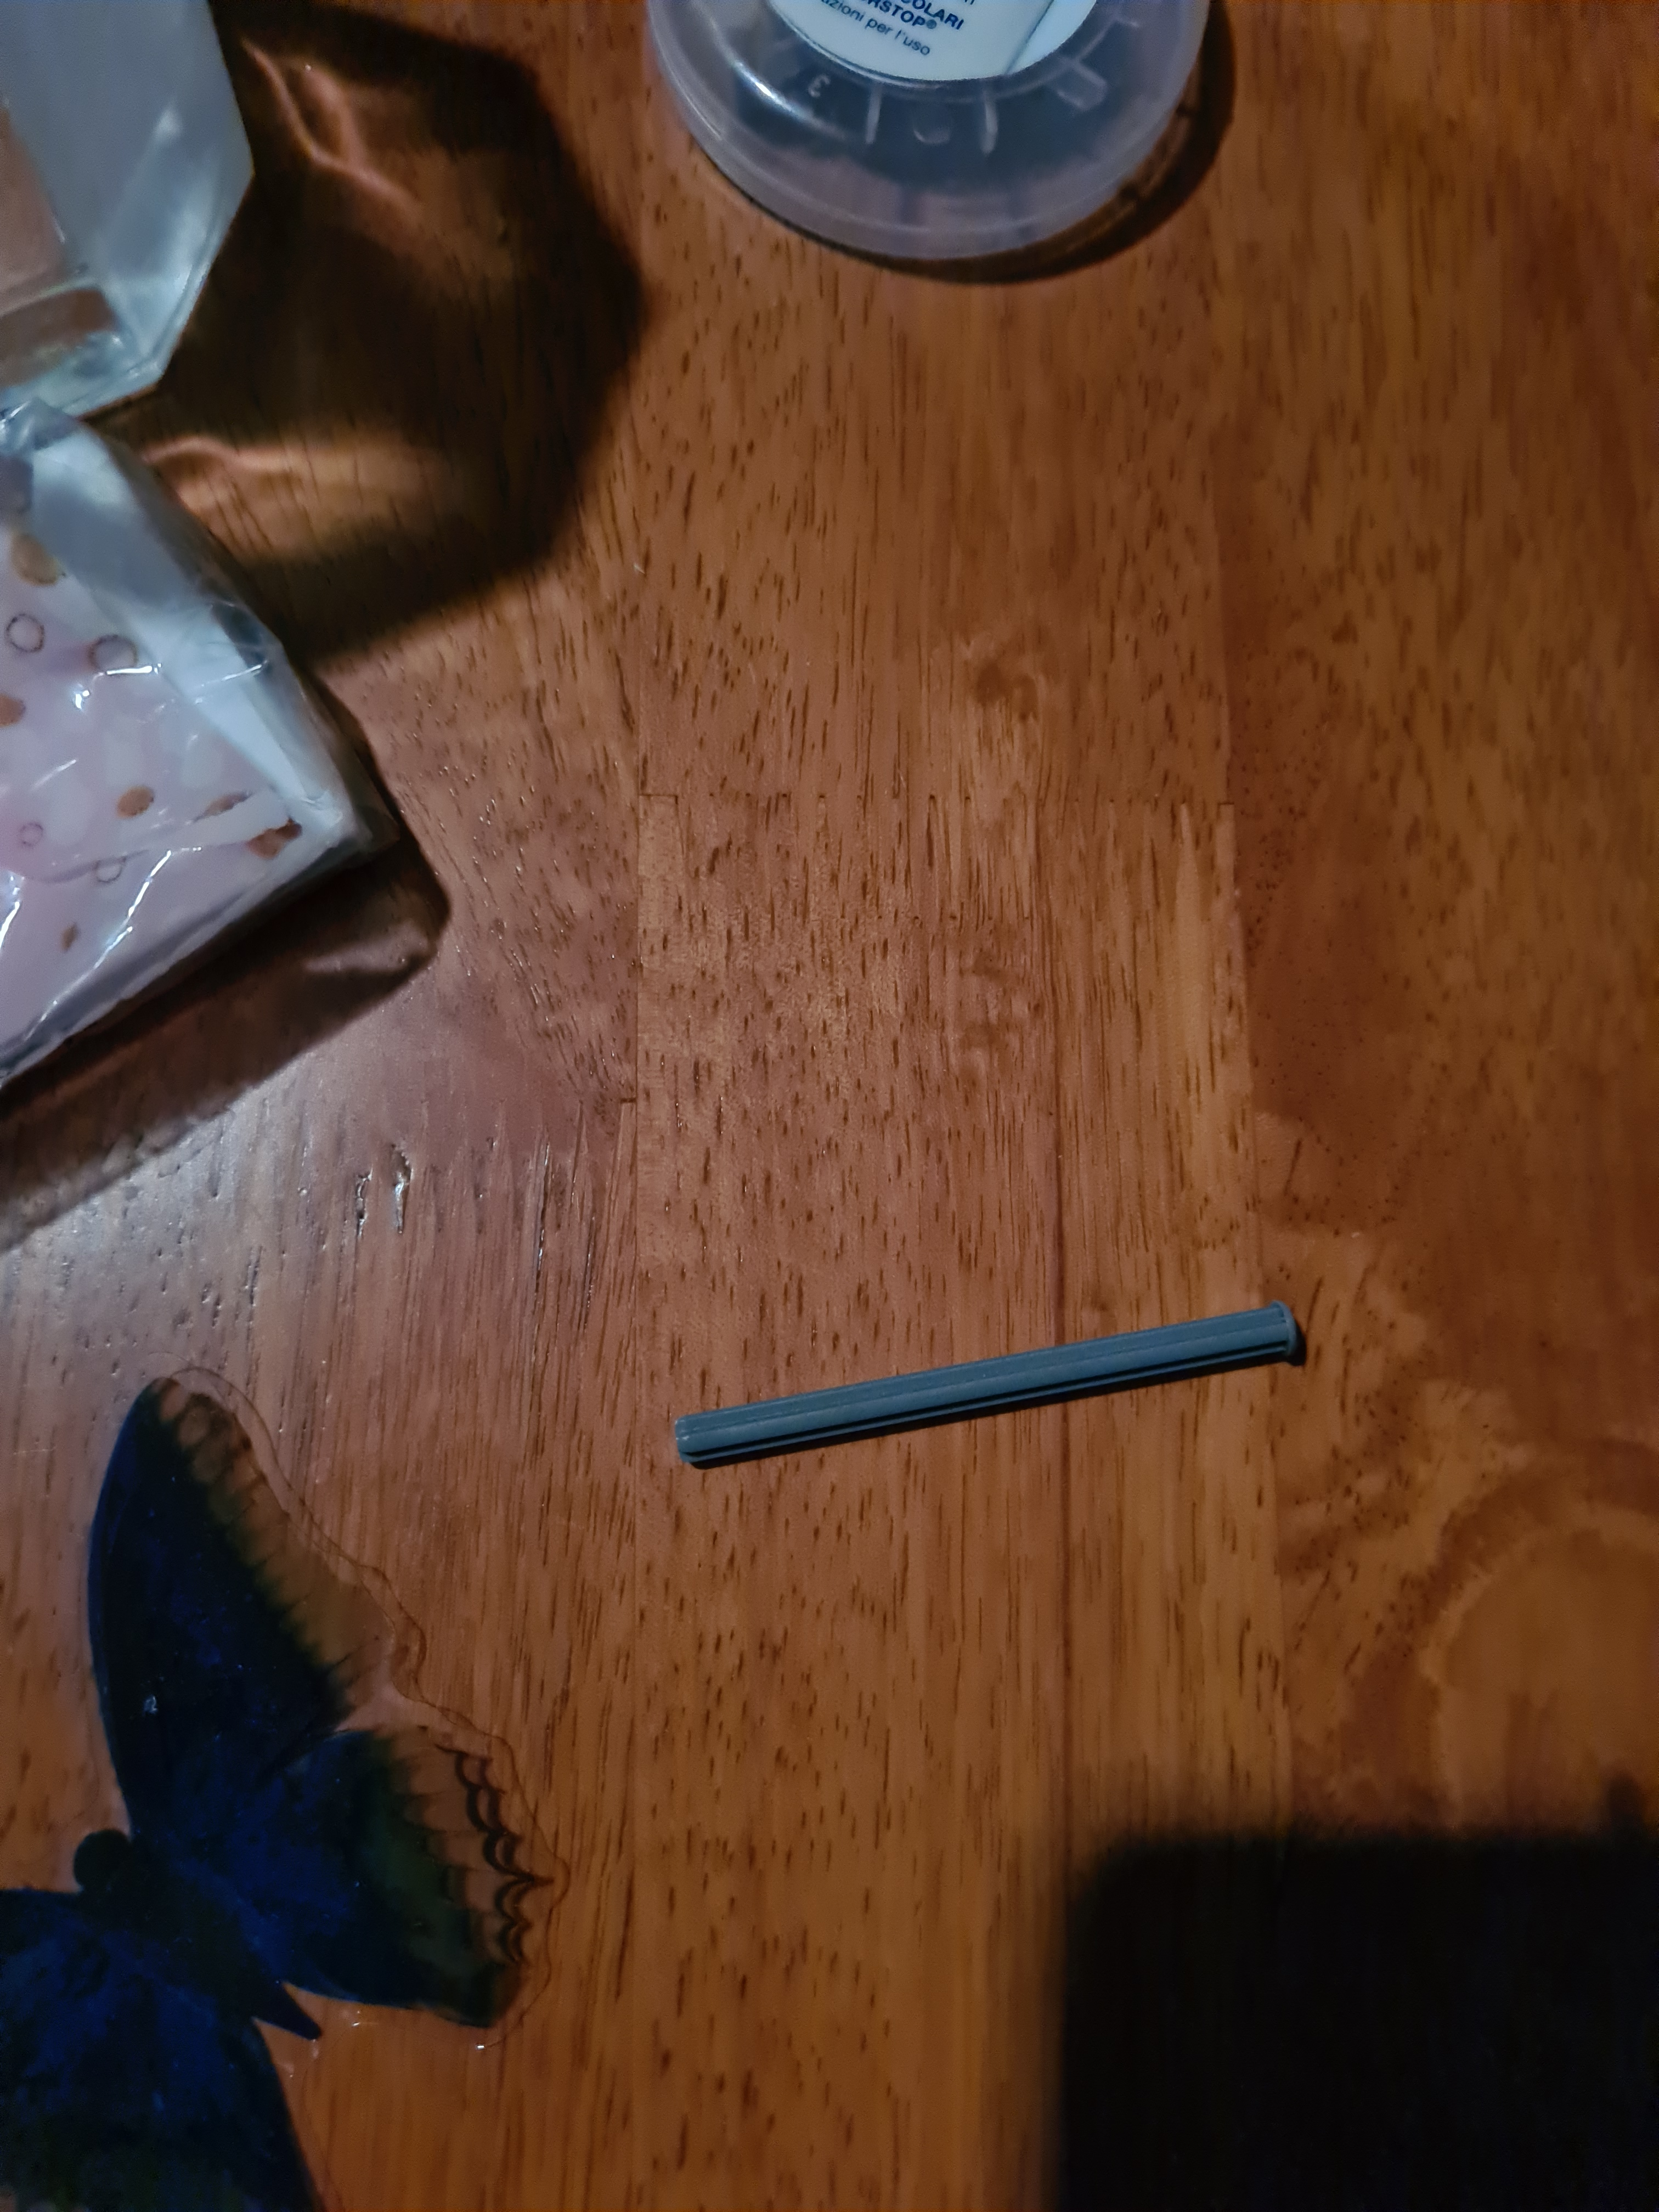Grau_lang: (655, 1251, 1326, 1489)
